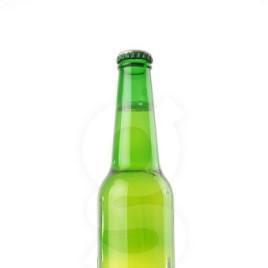beer: (97, 51, 179, 268)
